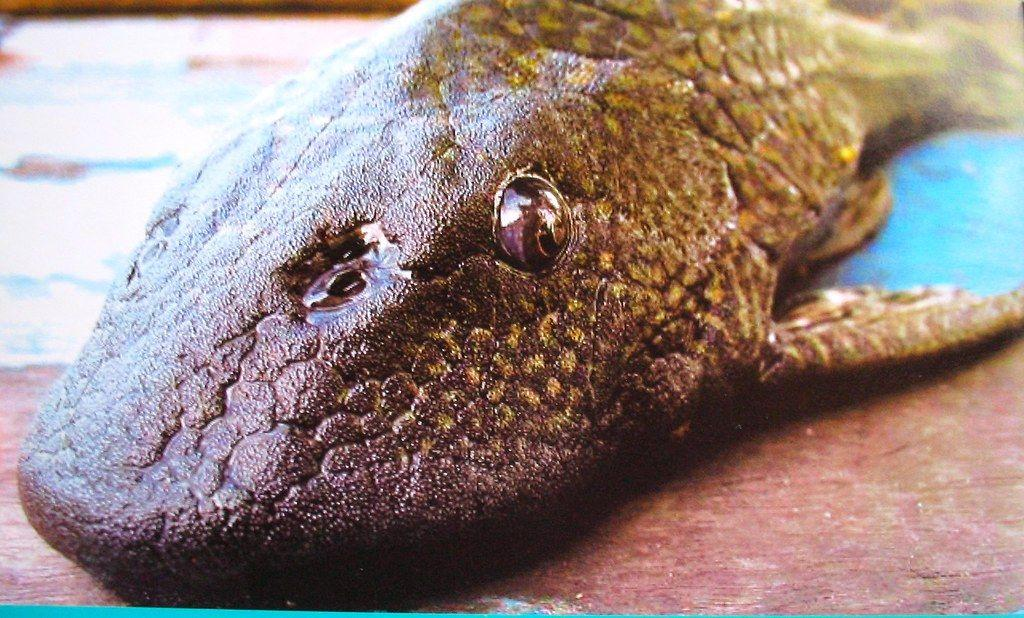Janitor Fish: (2, 0, 1024, 605)
